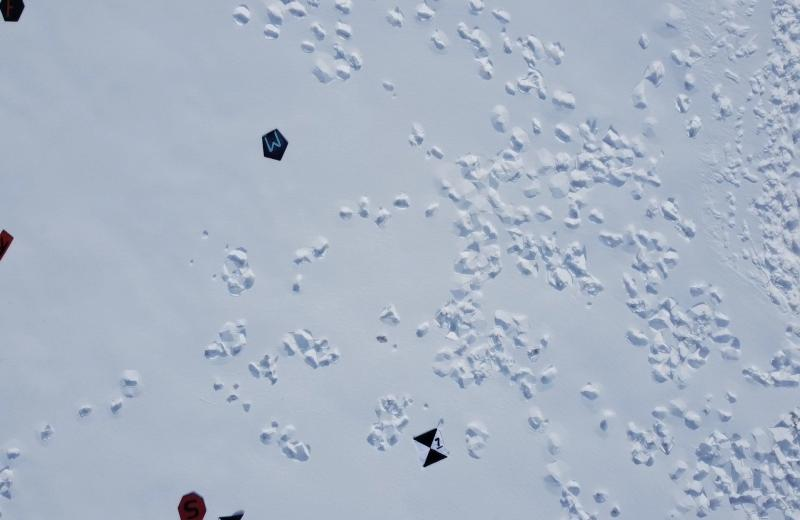Hexagon: (0, 0, 28, 27)
Octagon: (172, 481, 211, 520)
Pentagon: (257, 125, 292, 168)
